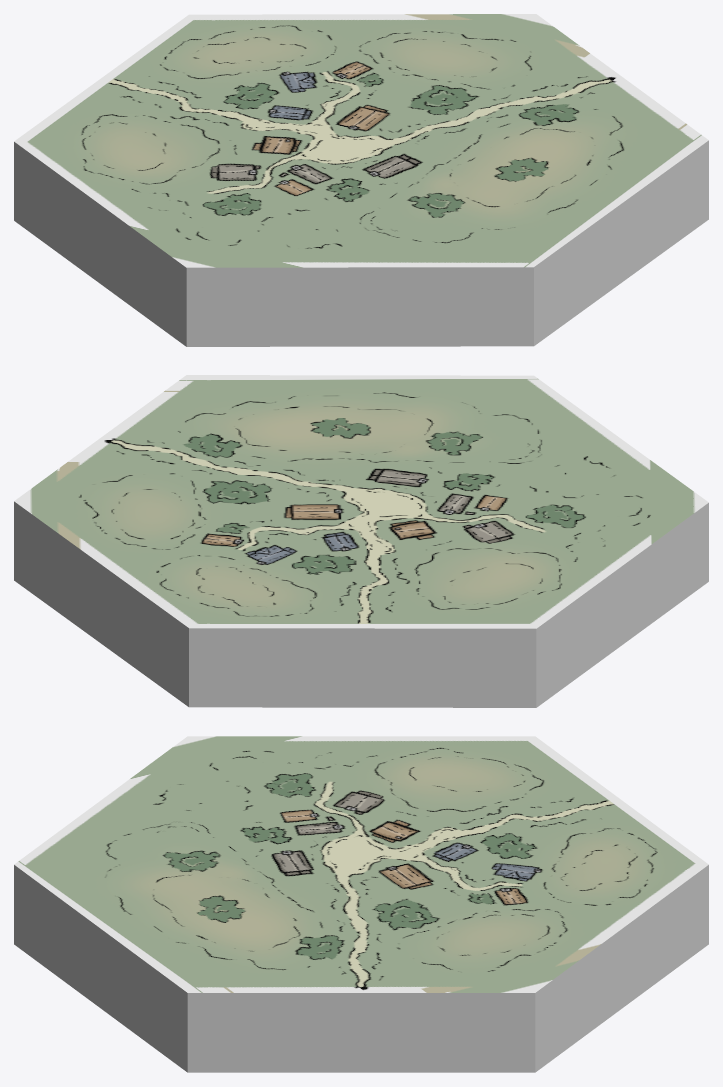
The model's file is LRA01.glb.
The picture shows the model from 3 angles, top to bottom: view 1: azimuth 30°, elevation 25°; view 2: azimuth 150°, elevation 25°; view 3: azimuth 270°, elevation 25°; orthographic projection.
Visible parts, largest first — view 1: Cylinder; view 2: Cylinder; view 3: Cylinder.
Boxes of the visible parts, bbox=[...] form: Cylinder: bbox=[14, 14, 708, 346]; Cylinder: bbox=[14, 375, 708, 707]; Cylinder: bbox=[14, 736, 708, 1072].
Size of the model in its own units: 1.73 by 0.2501 by 1.97.
Materials: 3 (2 with a texture image).
